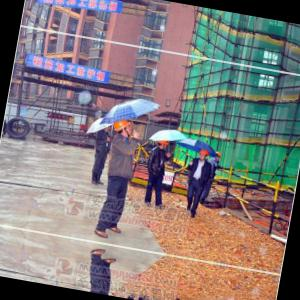helmet: (111, 118, 135, 139), (198, 148, 211, 163), (157, 137, 170, 151), (212, 149, 223, 162)
